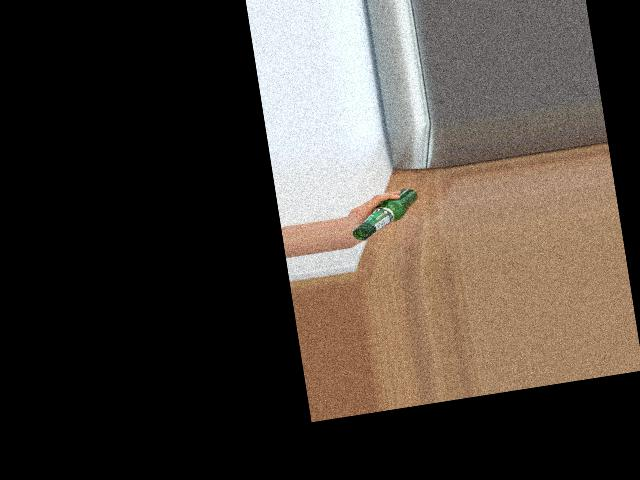beer: (346, 187, 422, 242)
